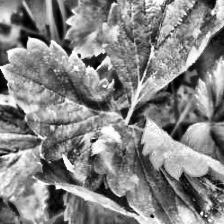Powdery Mildew Leaf: (0, 36, 135, 182), (92, 117, 224, 224), (102, 0, 224, 112)
